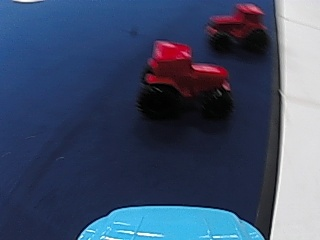tractor: (138, 36, 233, 121), (205, 2, 270, 54)
